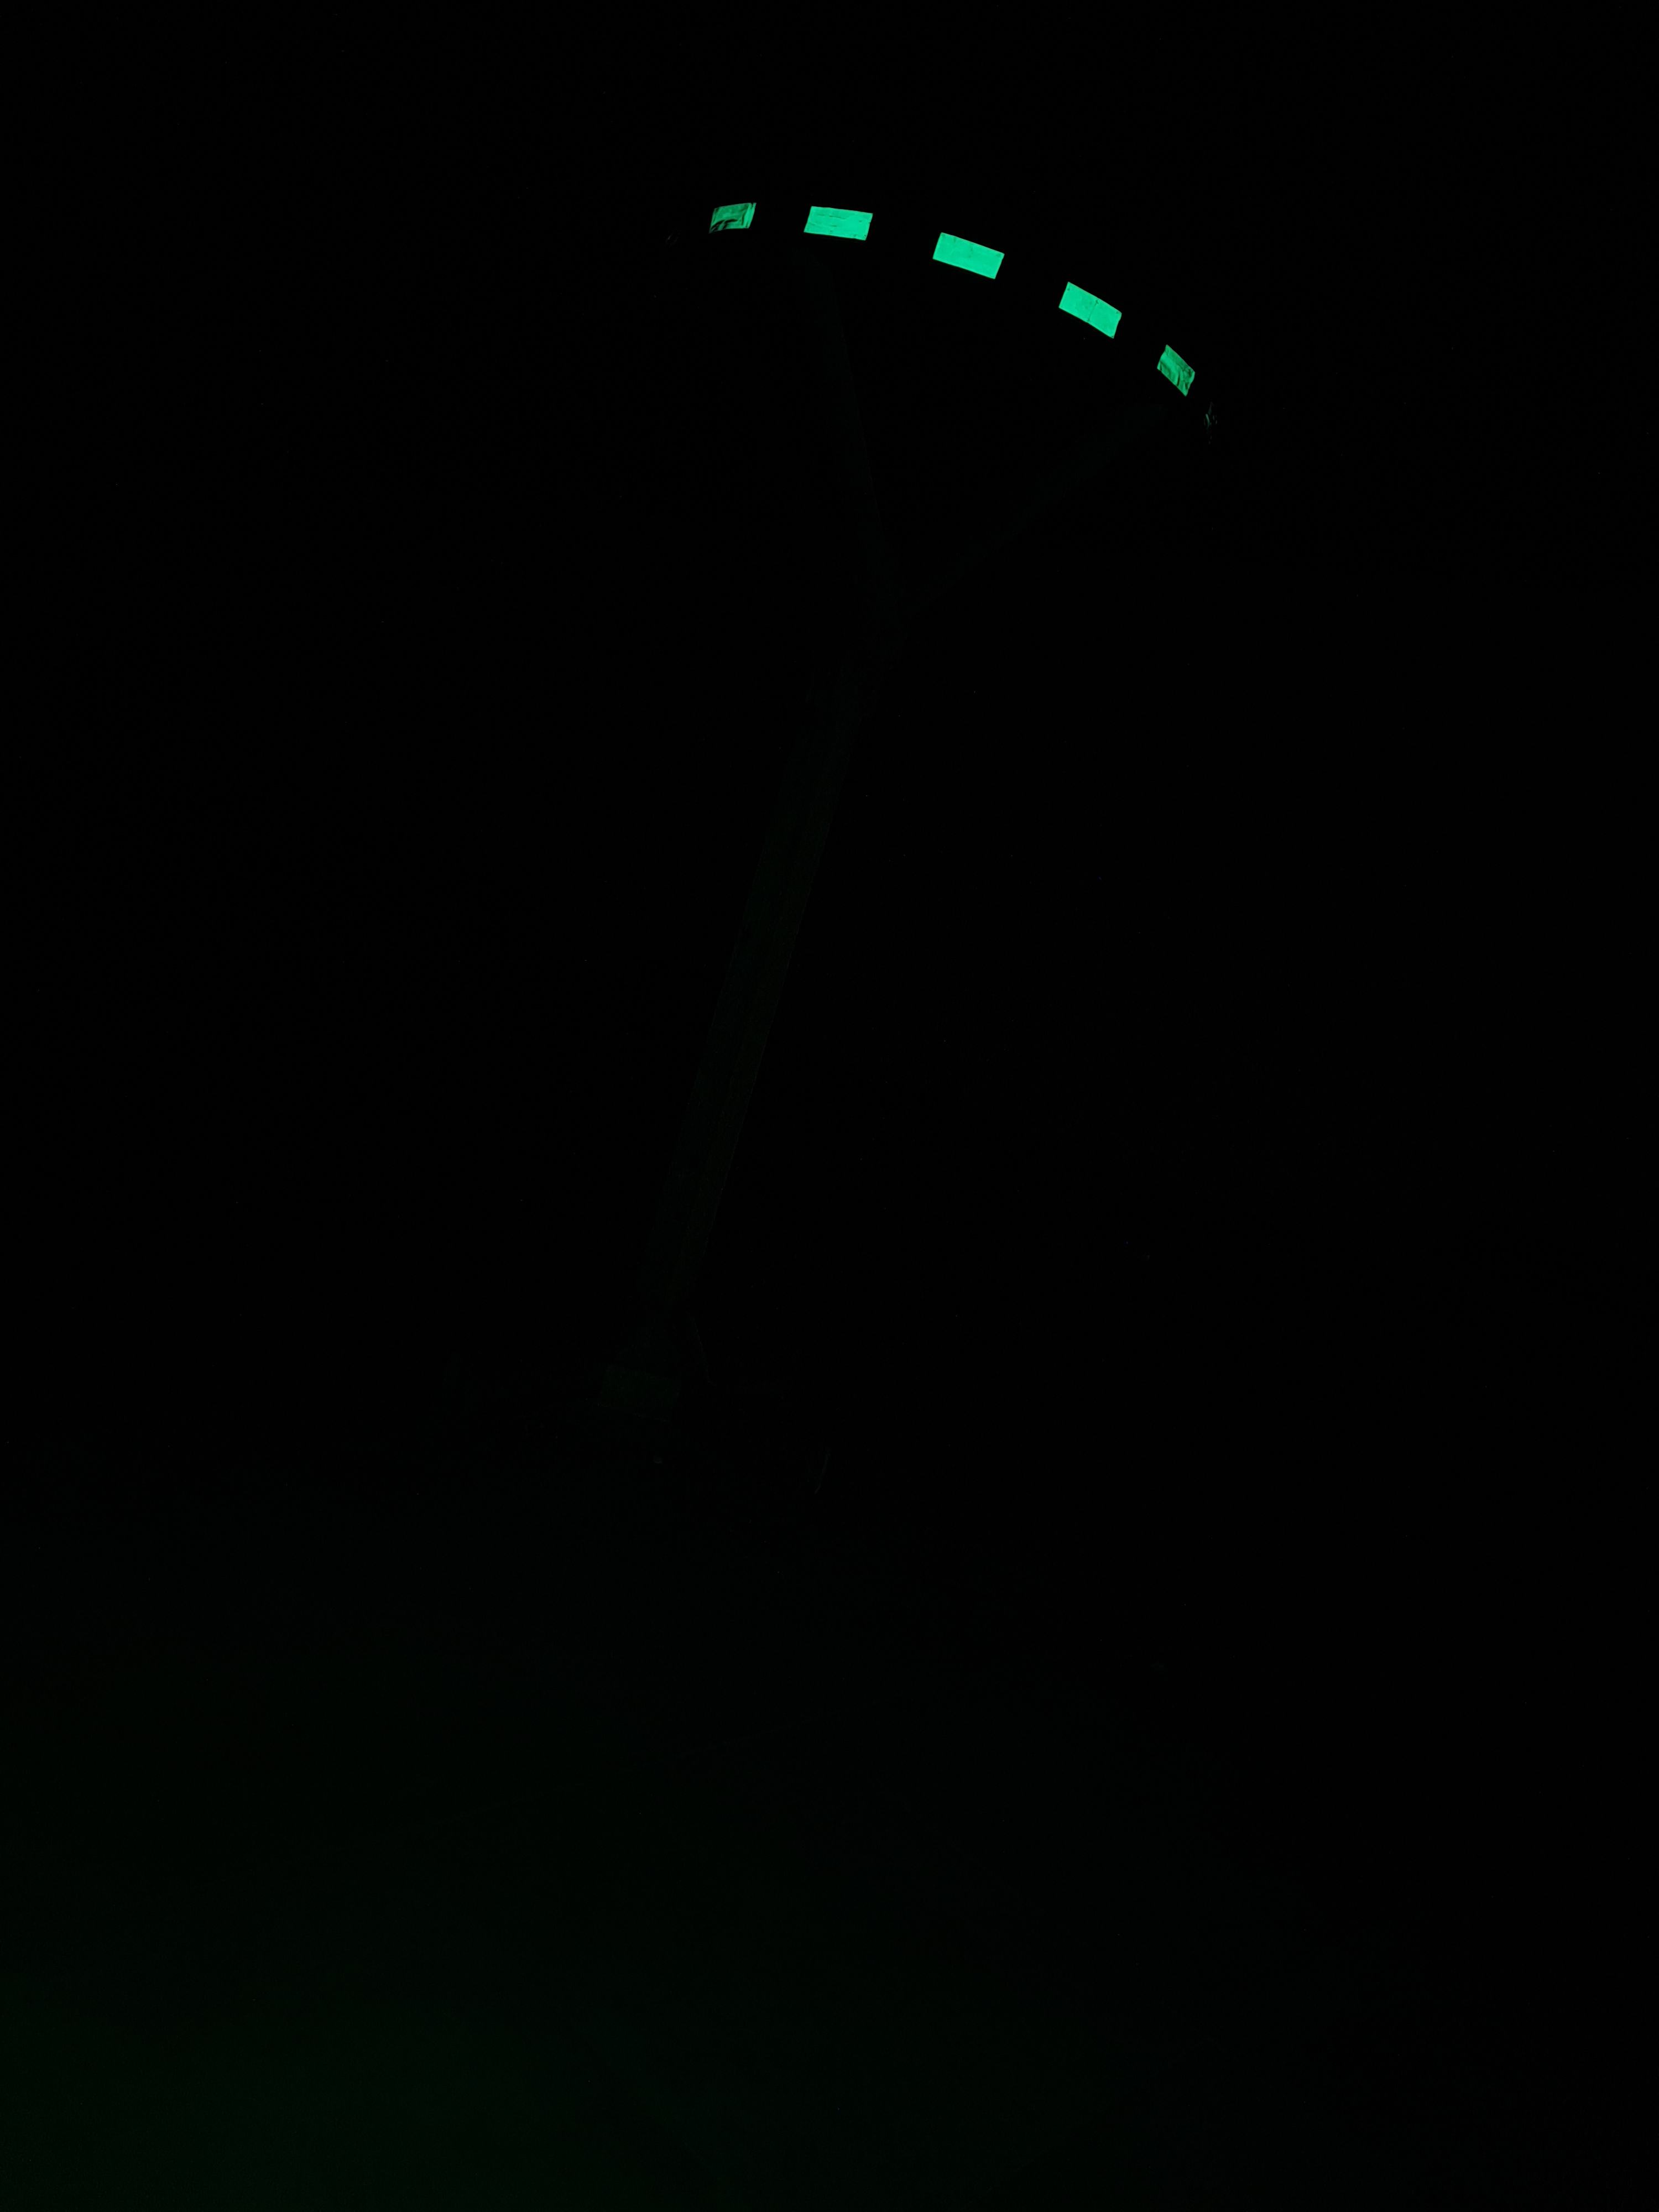hoop: (709, 197, 1197, 401)
